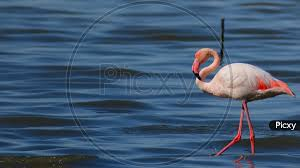Walking: (187, 49, 298, 159)
